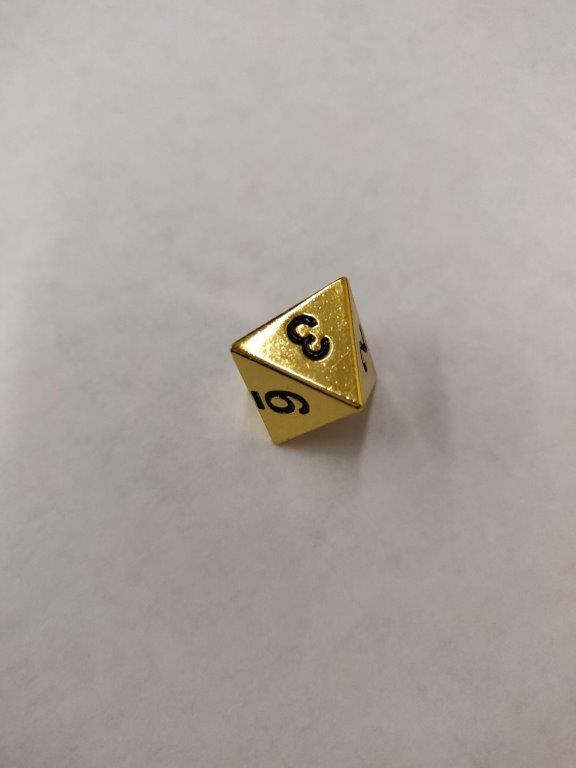d8-3: (231, 274, 380, 450)
